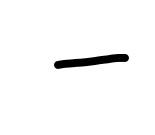minus: (55, 51, 129, 69)
